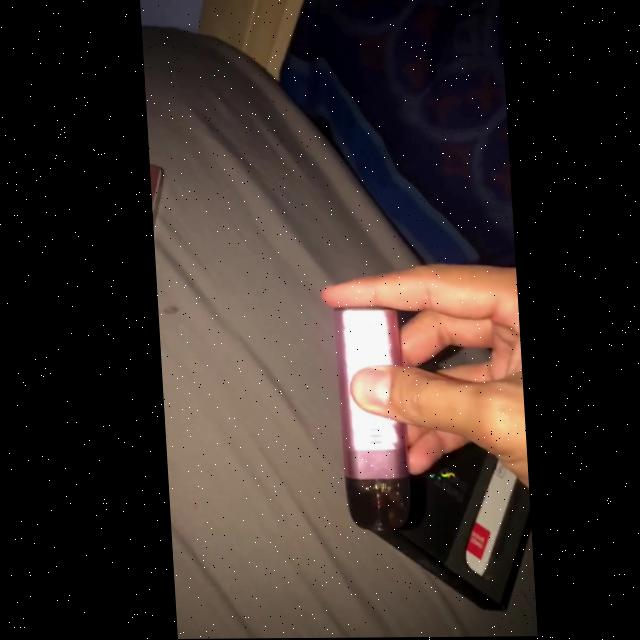vape: (331, 305, 407, 541)
